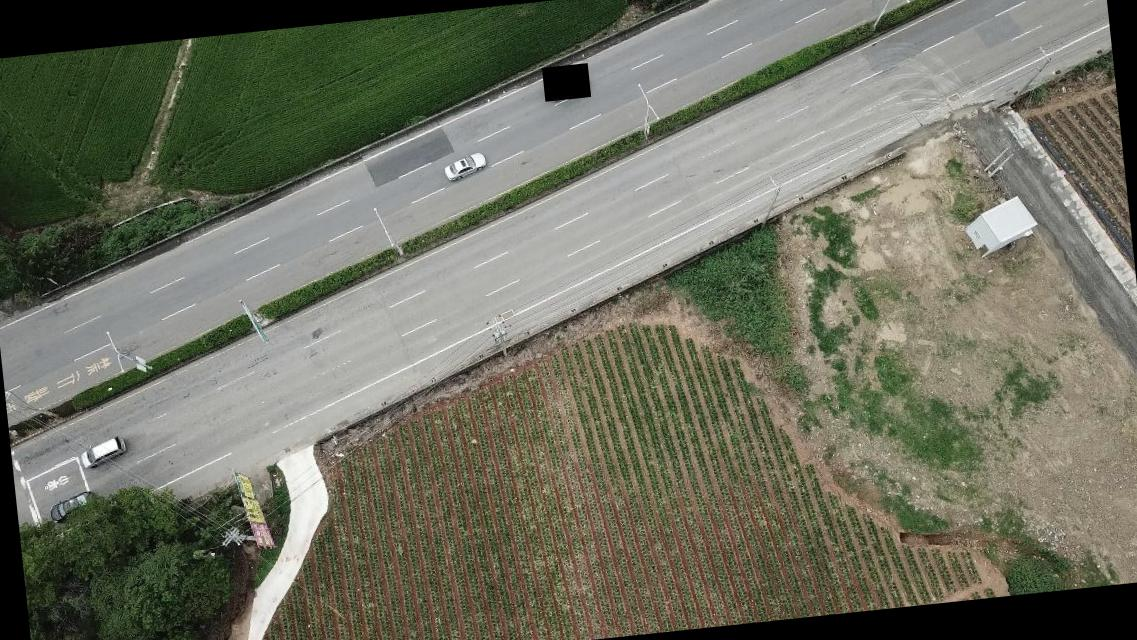vehicle: (78, 435, 130, 469), (48, 487, 98, 522), (444, 150, 489, 180)
